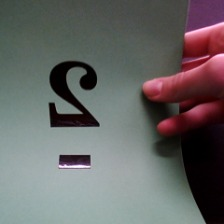green2: (39, 54, 110, 172)
